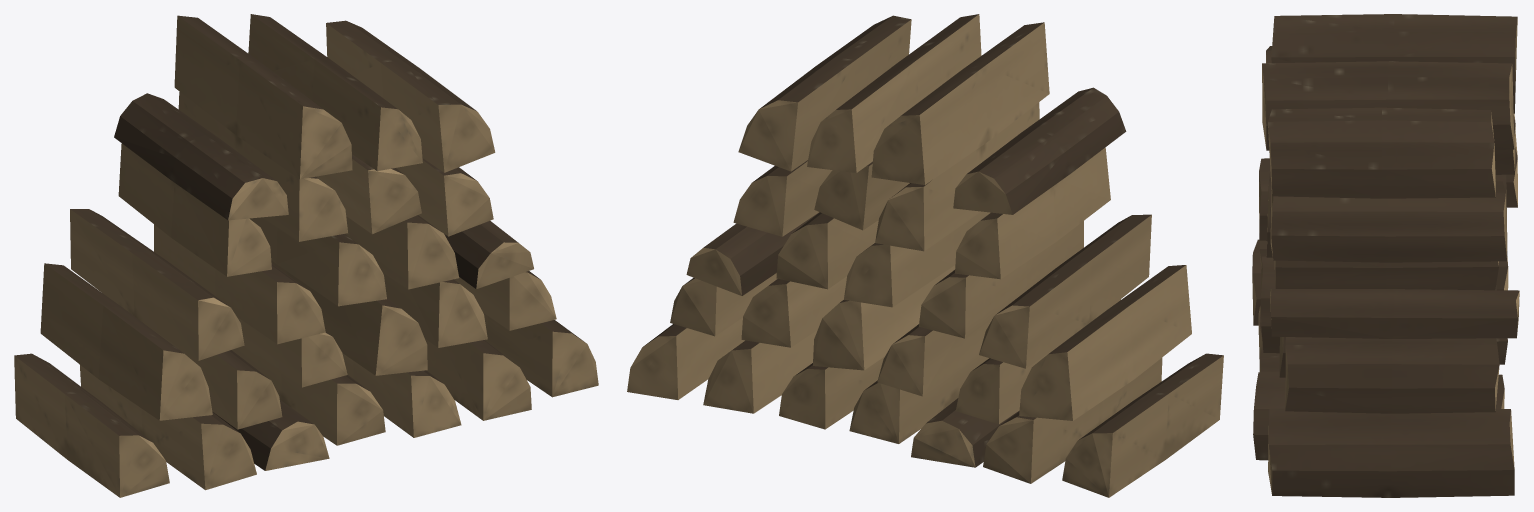
The model's file is farmland_firewood_stack_stack.glb.
The picture shows the model from 3 angles, left to right: view 1: azimuth 30°, elevation 25°; view 2: azimuth 150°, elevation 25°; view 3: azimuth 270°, elevation 25°; orthographic projection. The views are drawn at different scales.
Parts seen in each view (by area): view 1: FirewoodStack; view 2: FirewoodStack; view 3: FirewoodStack.
Boxes of the visible parts, bbox=[...] form: FirewoodStack: bbox=[14, 14, 598, 497]; FirewoodStack: bbox=[627, 14, 1223, 497]; FirewoodStack: bbox=[1252, 14, 1519, 497].
Size of what is drawn, in the model's own units: 1.2 by 0.85 by 0.6.
1 material, 1 textured.
